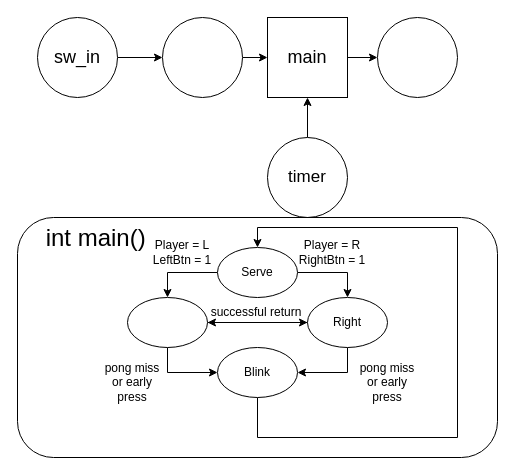
Some shapes in this 515 by 475 pixel diagram are drawn without their labels. Here are the shapes that lost their labels. From the top down, the centre of each, then its label:
At (202,57): "debounce".
At (417,57): "led_out".
At (167,322): "Left".
